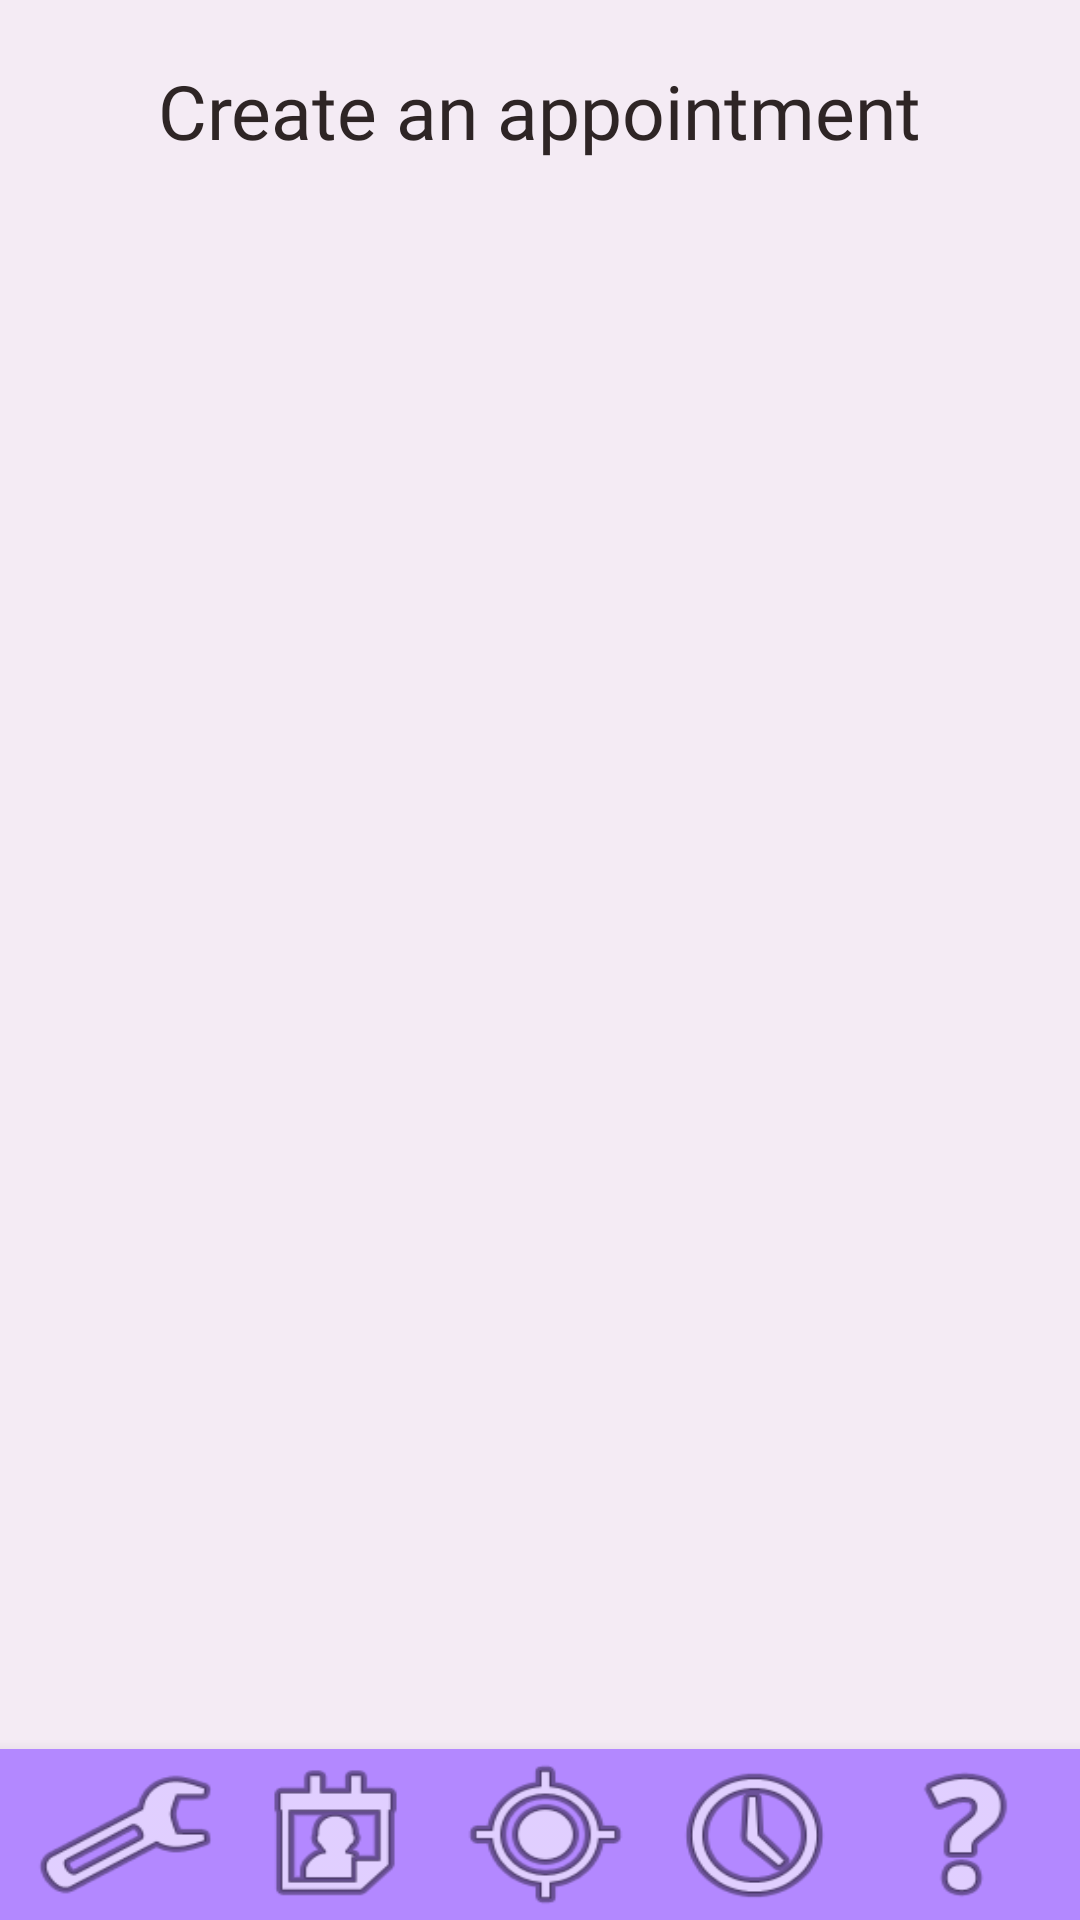

Icons on this 1080×1920 Android screen, each with its box as (x1, y1, x2, y2):
calendar: (274, 1770, 397, 1895)
help: (924, 1773, 1007, 1896)
mylocation: (470, 1766, 621, 1903)
preferences: (40, 1775, 211, 1894)
recent history: (686, 1773, 823, 1897)
